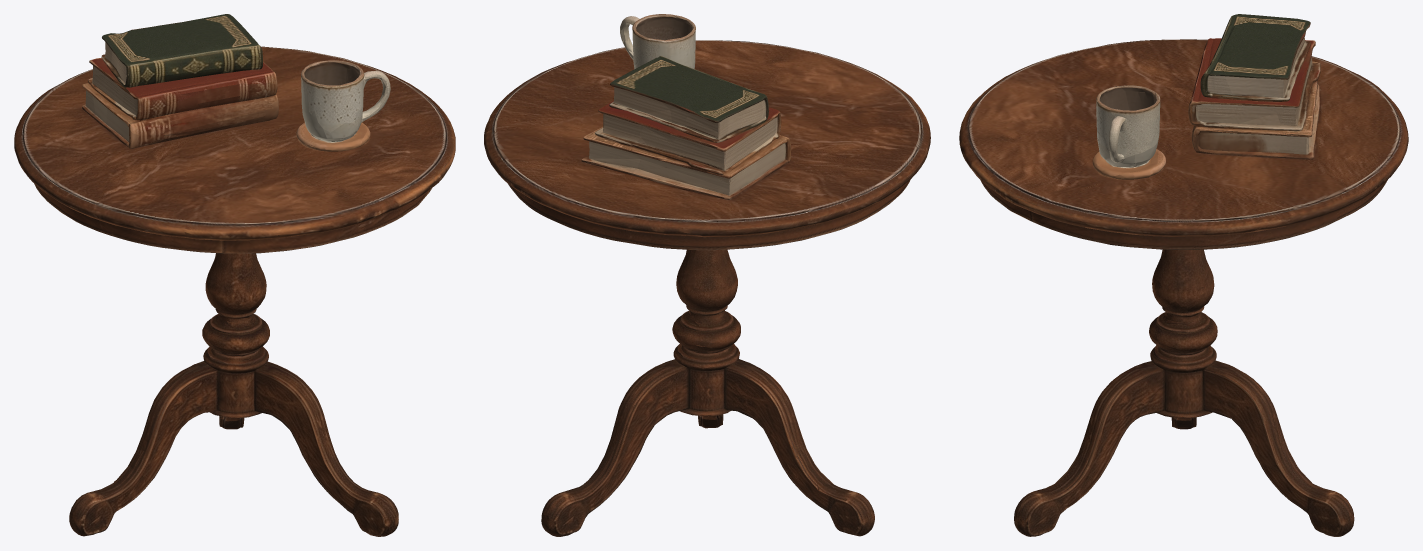
Rendered from reading-table.glb.
The picture shows the model from 3 angles, left to right: view 1: azimuth 30°, elevation 25°; view 2: azimuth 150°, elevation 25°; view 3: azimuth 270°, elevation 25°; orthographic projection.
Parts seen in each view (by area): view 1: Mesh_0; view 2: Mesh_0; view 3: Mesh_0.
Boxes of the visible parts, x1,y1,x2,y2 form: Mesh_0: (14,14,455,536); Mesh_0: (484,14,930,536); Mesh_0: (959,14,1408,536).
Bounding box in the file's own units: 1.74 × 1.9 × 1.75.
Materials: 1 (1 with a texture image).
